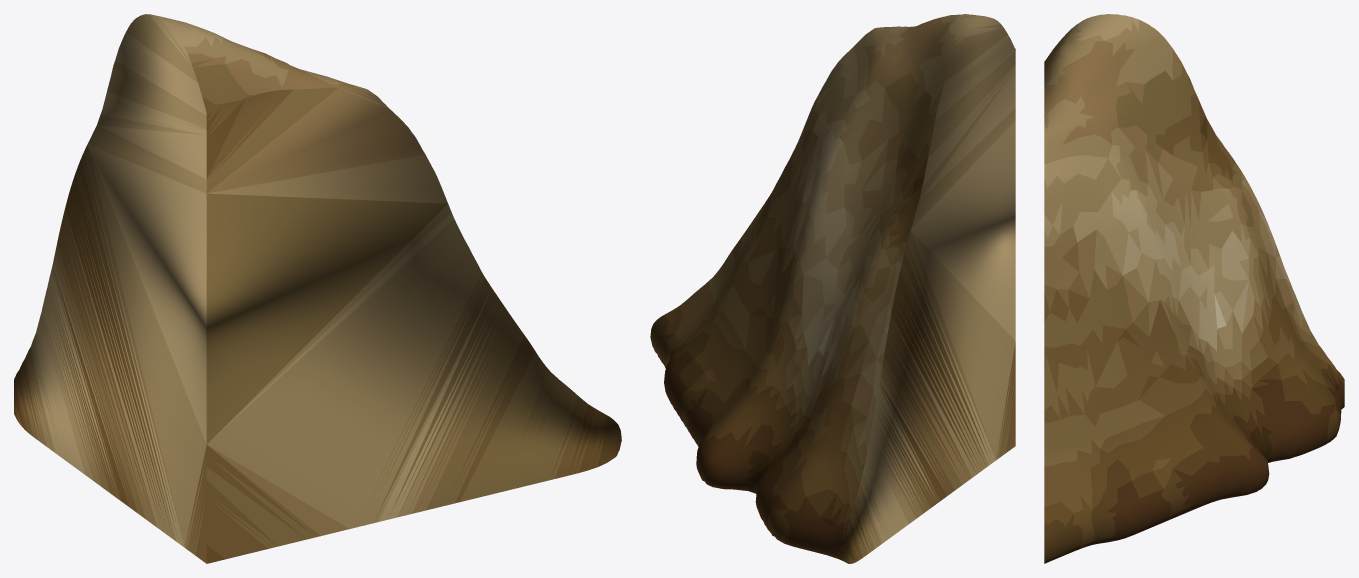
The model's file is rock_arch_262.glb.
3 views of the same model, side by side, from view 1: azimuth 30°, elevation 25°; view 2: azimuth 150°, elevation 25°; view 3: azimuth 270°, elevation 25° (orthographic). The views are drawn at different scales.
Visible parts, largest first — view 1: rock_arch_262; view 2: rock_arch_262; view 3: rock_arch_262.
Part boxes in pixels (left/top/right/bottom): rock_arch_262: left=14, top=14, right=621, bottom=563; rock_arch_262: left=650, top=14, right=1015, bottom=563; rock_arch_262: left=1044, top=14, right=1344, bottom=563.
Size of the model in its own units: 17.42 by 20.55 by 14.
